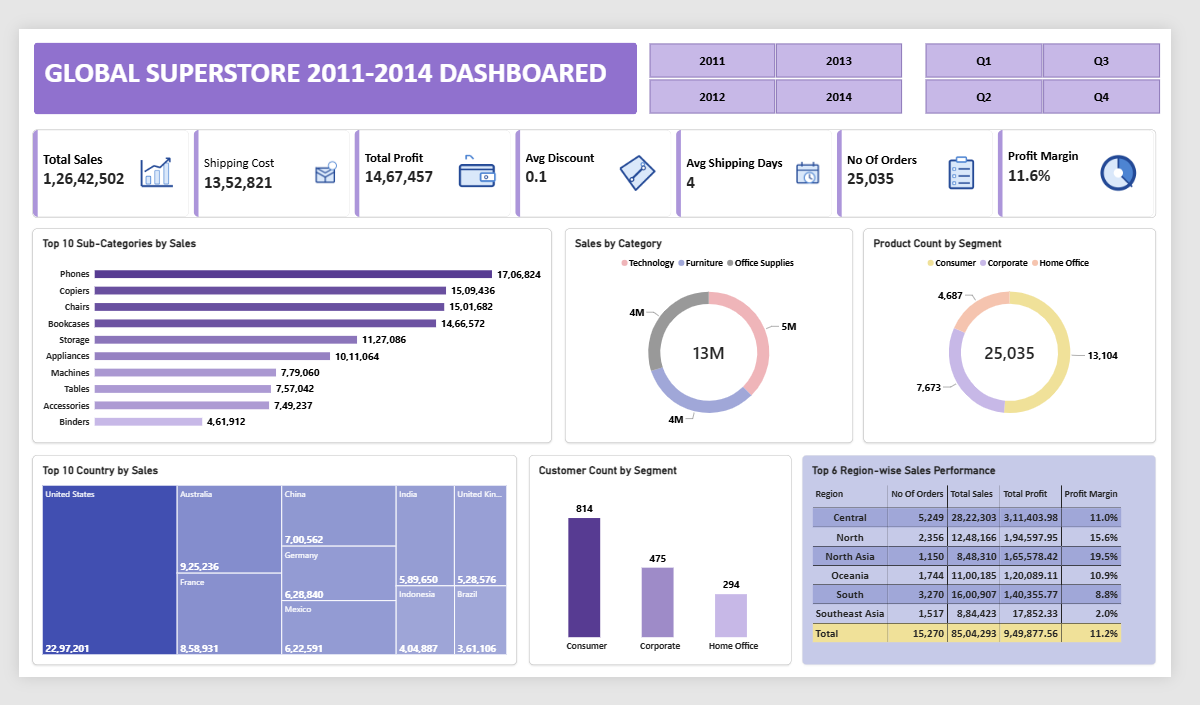

Layout of this report page (visuals, bound fields, positions):
{"tool":"powerbi","page":{"name":"Overview","canvas":[1920,1080],"ordinal":0},"visuals":[{"type":"cardVisual","fields":{"Data":["Dax Measures.Total Sales","Dax Measures.Total Shipping Cost","Dax Measures.Total Profit","Dax Measures.Avg Discount","Dax Measures.Avg Shipping Days","Dax Measures.No Of Orders","Dax Measures.Profit Margin"]},"box":[22.5,167.5,1872.5,147.5],"z":0},{"type":"shape","box":[25,22.5,1005,120],"z":1000},{"type":"textbox","box":[42.5,42.5,987.5,100],"z":2000},{"type":"barChart","title":"Top 10 Sub-Categories by Sales","fields":{"Category":["Global_Superstore.Sub-Category"],"Y":["Dax Measures.Total Sales"]},"box":[22.5,332.5,865,357.5],"z":3000},{"type":"treemap","title":"Top 10 Country by Sales","fields":{"Group":["Global_Superstore.Country"],"Values":["Dax Measures.Total Sales"]},"box":[22.5,710,807.5,350],"z":4000},{"type":"donutChart","title":"Sales by Category","fields":{"Category":["Global_Superstore.Category"],"Y":["Dax Measures.Total Sales"]},"box":[910,332.5,480,357.5],"z":5000},{"type":"donutChart","title":"Product Count by Segment","fields":{"Category":["Global_Superstore.Segment"],"Y":["Dax Measures.No Of Orders"]},"box":[1407.5,332.5,487.5,357.5],"z":6000},{"type":"tableEx","title":"Top 6 Region-wise Sales Performance","fields":{"Values":["Global_Superstore.Region","Dax Measures.No Of Orders","Dax Measures.Total Sales","Dax Measures.Total Profit","Dax Measures.Profit Margin"]},"box":[1305,710,590,350],"z":7000},{"type":"slicer","fields":{"Values":["Date_Table.Year"]},"box":[1030,22.5,460,120],"z":8000},{"type":"columnChart","title":"Customer Count by Segment","fields":{"Category":["Global_Superstore.Segment"],"Y":["Dax Measures.No Of Customers"]},"box":[850,710,437.5,350],"z":9000},{"type":"slicer","fields":{"Values":["Date_Table.Quarter"]},"box":[1490,22.5,430,120],"z":9001}]}

Visuals, with their boxes on the page's 1920x1080 design canvas (x1, y1, x2, y2). These are canvas units, not pixel positions in the 1200x705 screenshot, which may show the page scaled, cropped or inside an application window:
cardVisual - Dax Measures.Total Sales x Dax Measures.Total Shipping Cost: Rect(22, 168, 1895, 315)
shape: Rect(25, 22, 1030, 142)
textbox: Rect(42, 42, 1030, 142)
"Top 10 Sub-Categories by Sales" barChart: Rect(22, 332, 888, 690)
"Top 10 Country by Sales" treemap: Rect(22, 710, 830, 1060)
"Sales by Category" donutChart: Rect(910, 332, 1390, 690)
"Product Count by Segment" donutChart: Rect(1408, 332, 1895, 690)
"Top 6 Region-wise Sales Performance" tableEx: Rect(1305, 710, 1895, 1060)
slicer - Date_Table.Year: Rect(1030, 22, 1490, 142)
"Customer Count by Segment" columnChart: Rect(850, 710, 1288, 1060)
slicer - Date_Table.Quarter: Rect(1490, 22, 1920, 142)
